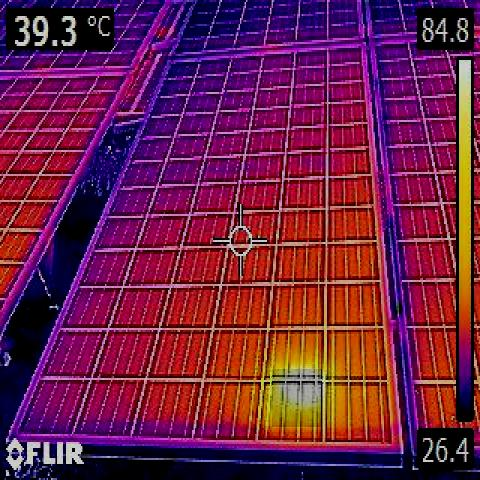fault: (272, 370, 322, 428)
